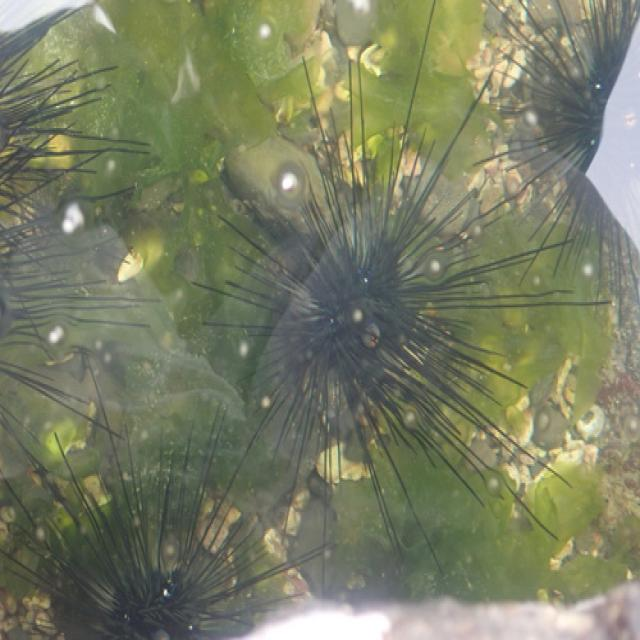Urchin: (196, 1, 610, 572), (1, 397, 330, 640), (1, 1, 156, 434), (478, 1, 640, 319)
